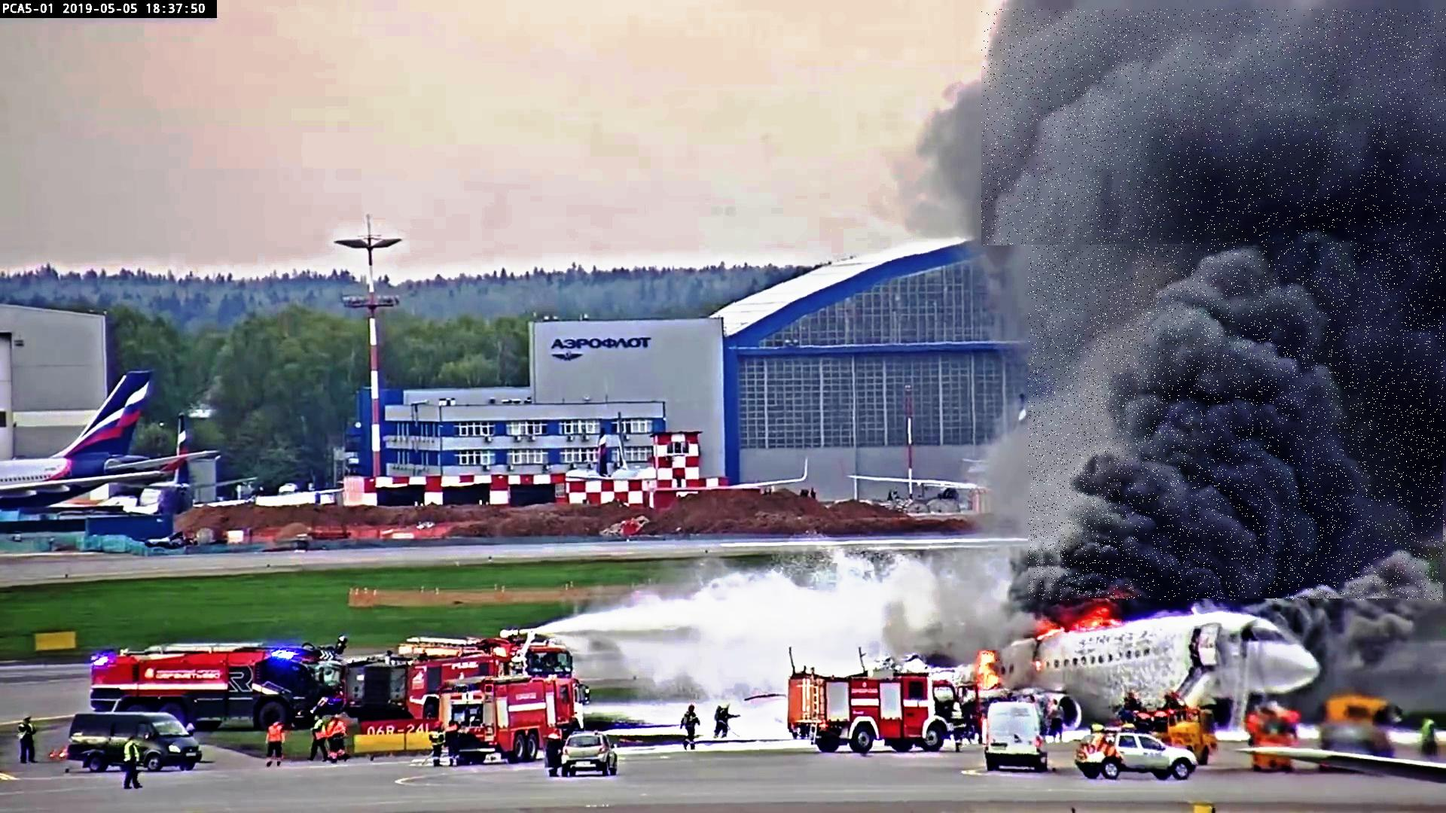smoke: (1028, 246, 1445, 601), (981, 10, 1446, 248)
